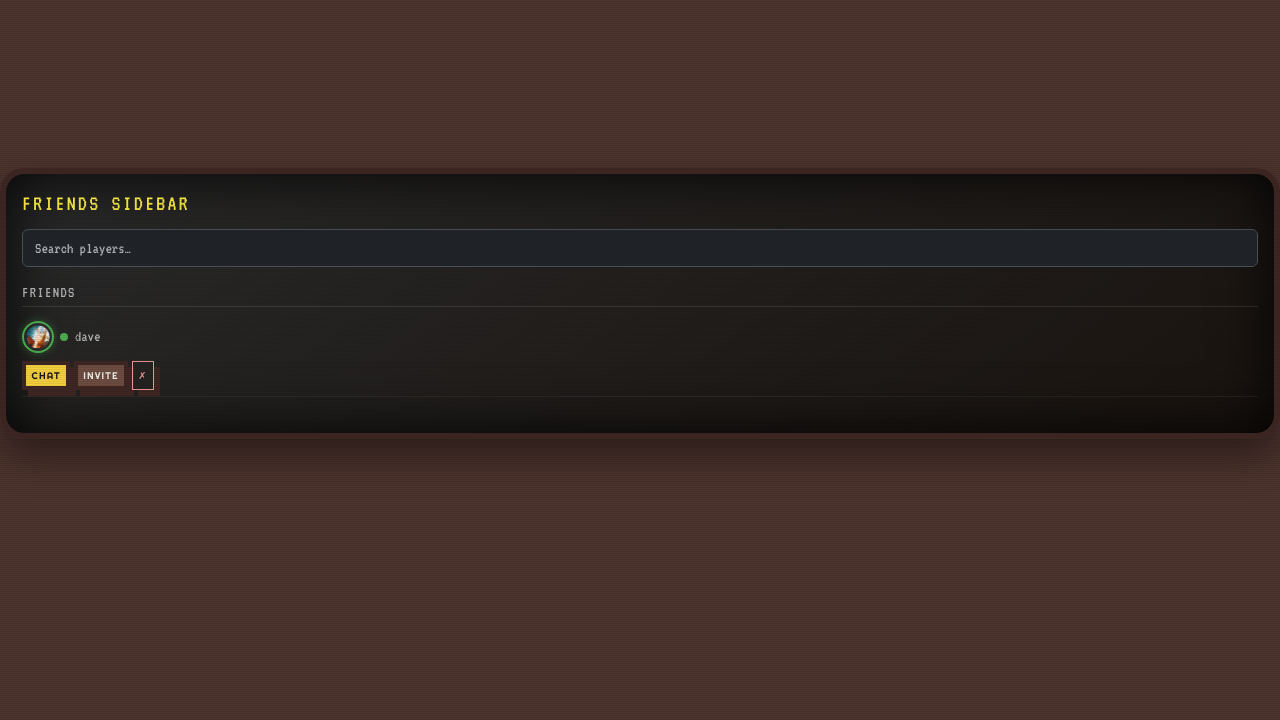
it: FriendsSidebar › backdrop click closes the offline modal without navigating
Click the button "Chat": {"x": 46, "y": 376} [22,361,70,390]
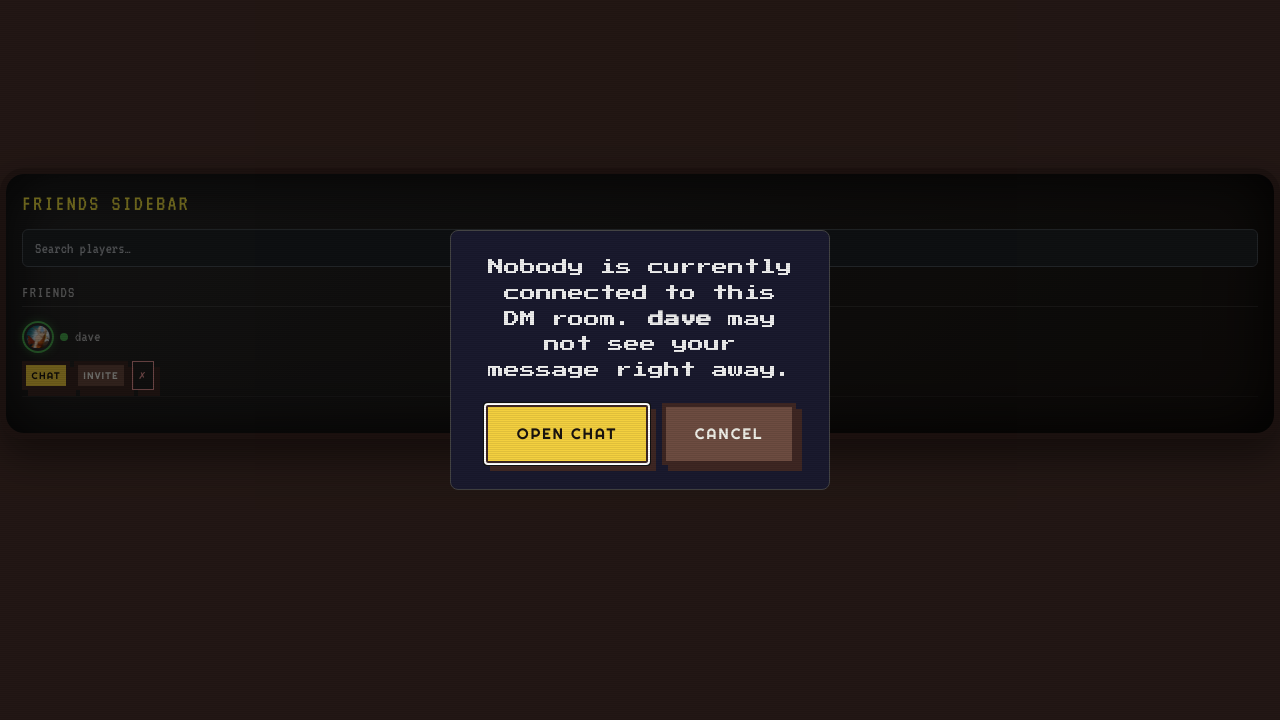
Check: the dialog named "friend not in chat" is shown
Click the dialog named "friend not in chat": {"x": 77, "y": 360} [0,0,1279,719]
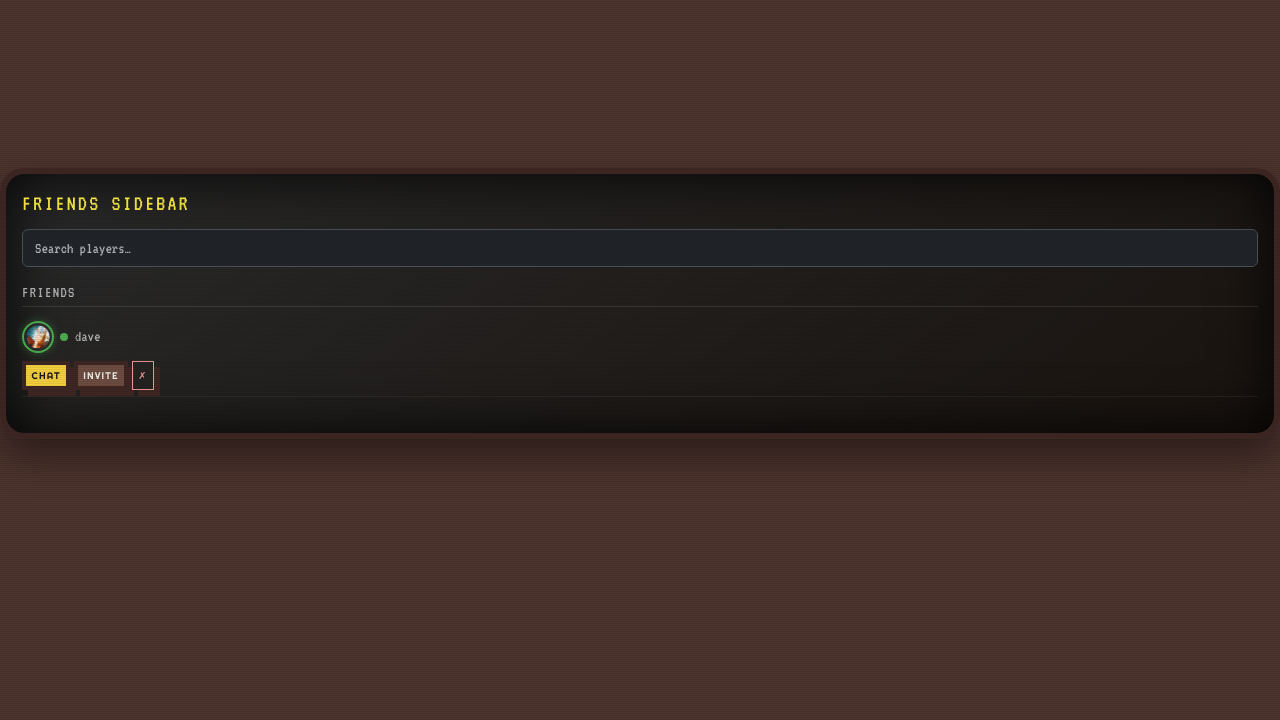
Check: the dialog is gone
